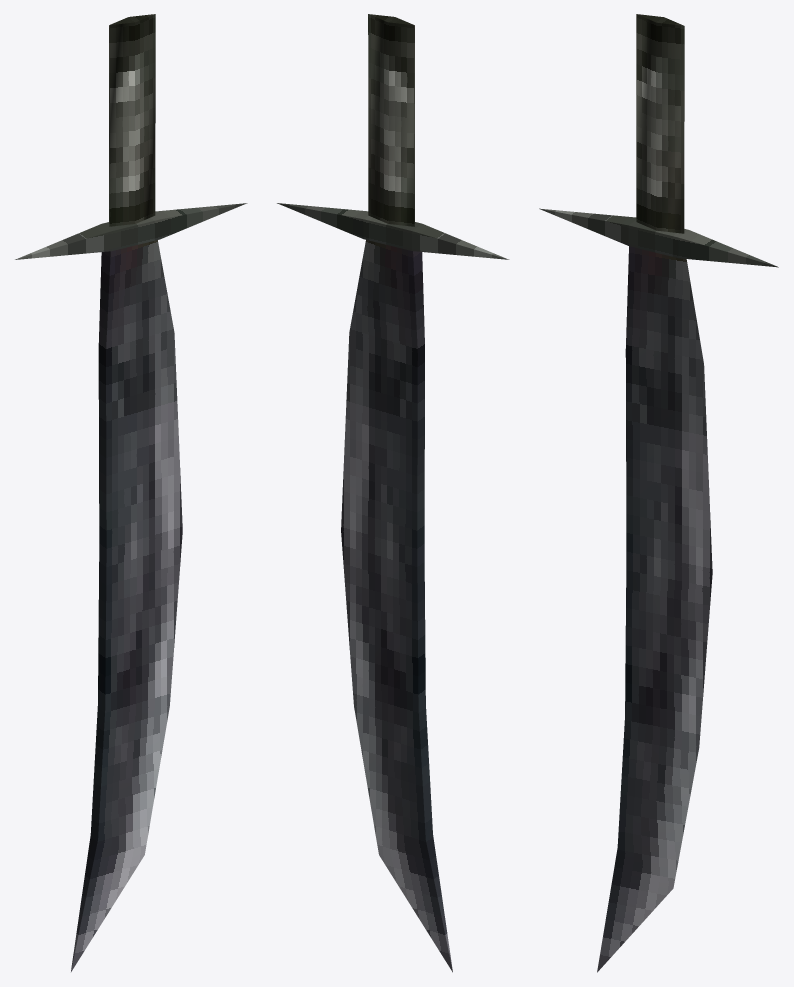
3 renders of one model, left to right at view 1: azimuth 30°, elevation 25°; view 2: azimuth 150°, elevation 25°; view 3: azimuth 330°, elevation 25°, orthographic. The views are drawn at different scales.
Visible parts, largest first — view 1: model_Object73; view 2: model_Object73; view 3: model_Object73.
Boxes of the visible parts, x1,y1,x2,y2 form: model_Object73: (15,14,247,971); model_Object73: (277,14,509,972); model_Object73: (539,14,778,972).
Bounding box in the file's own units: 0.3828 × 1.47 × 0.0289.
1 material, 1 textured.
